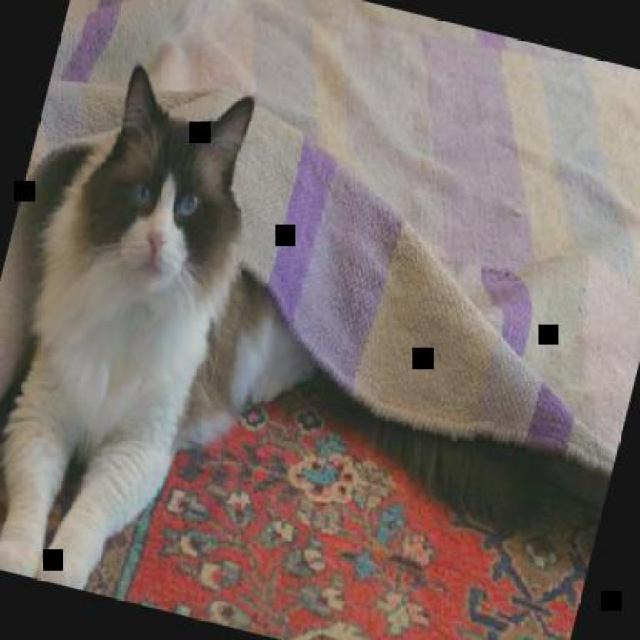cat: (0, 56, 366, 630)
